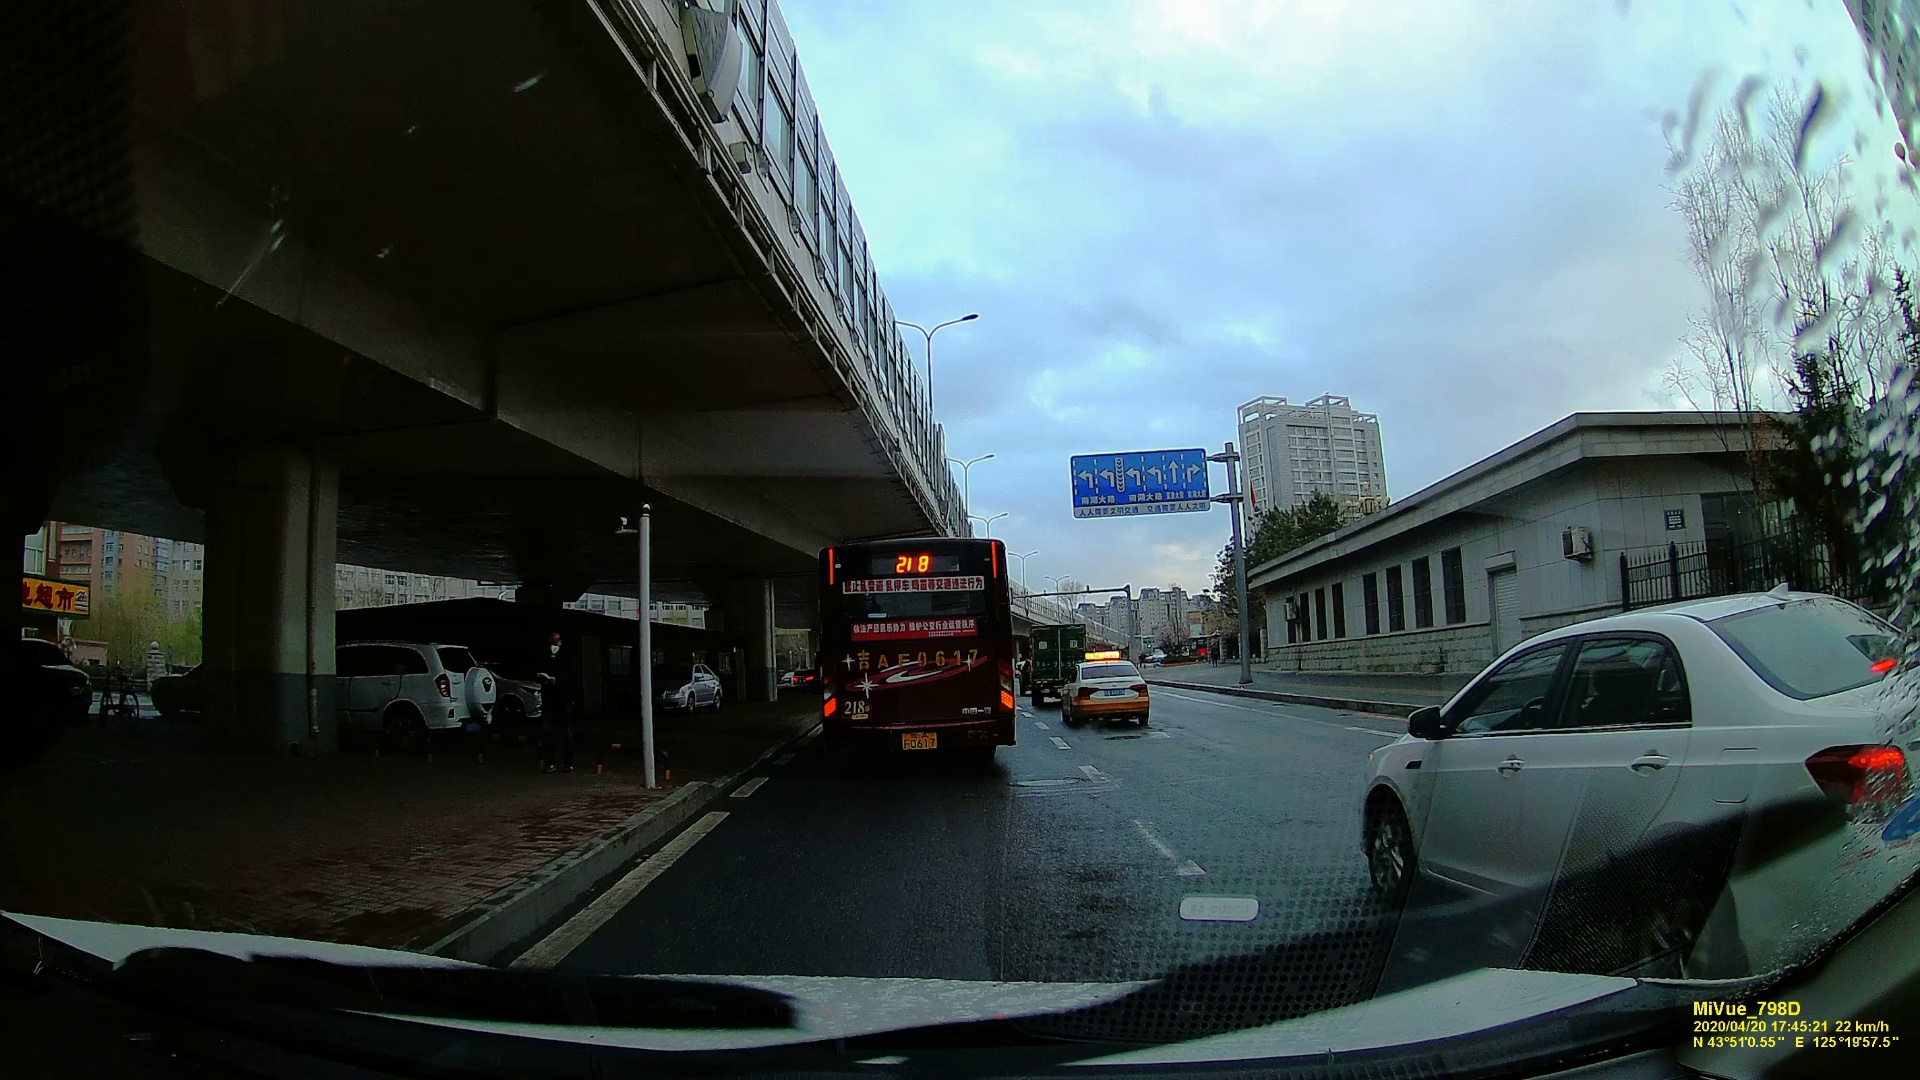bus: (818, 539, 1013, 771)
traffic_sign: (1072, 454, 1208, 510)
vehicle: (1362, 589, 1917, 972), (332, 640, 497, 748), (1058, 655, 1151, 728)
